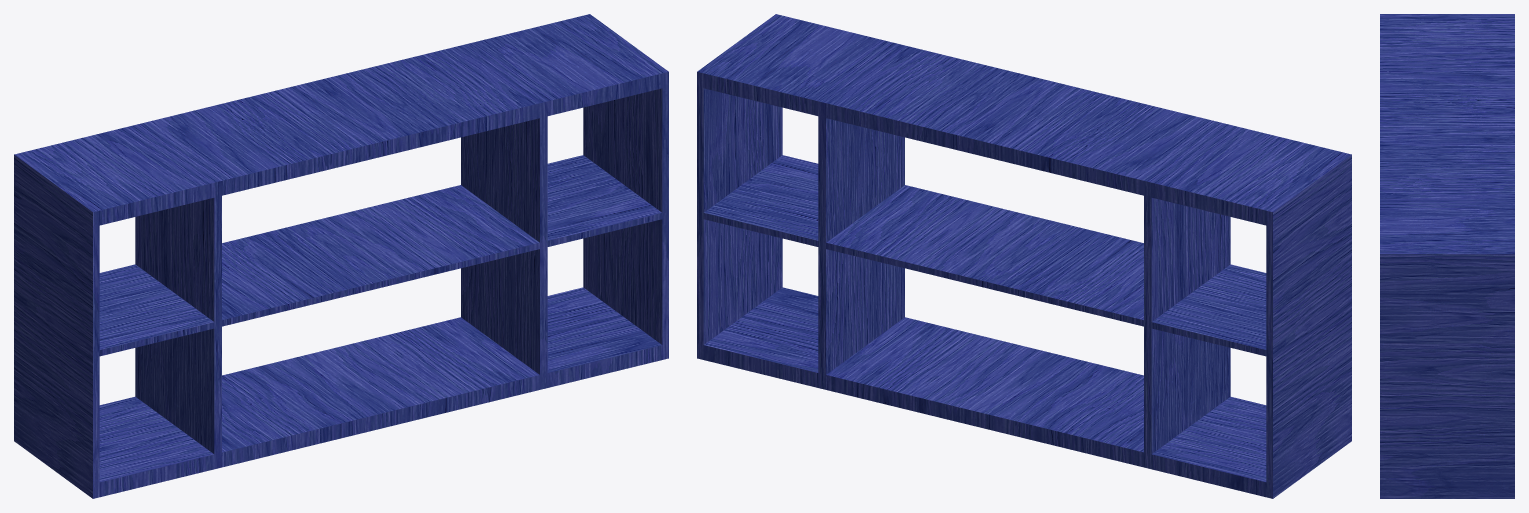
File: WoodShed.fbx
The picture shows the model from 3 angles, left to right: view 1: azimuth 30°, elevation 25°; view 2: azimuth 150°, elevation 25°; view 3: azimuth 270°, elevation 25°; orthographic projection. The views are drawn at different scales.
Visible parts, largest first — view 1: WoodShed; view 2: WoodShed; view 3: WoodShed.
Boxes of the visible parts, x1,y1,x2,y2 form: WoodShed: (14,14,668,498); WoodShed: (697,14,1351,498); WoodShed: (1380,14,1514,498).
Size of the model in its own units: 211 by 100 by 49.98.
